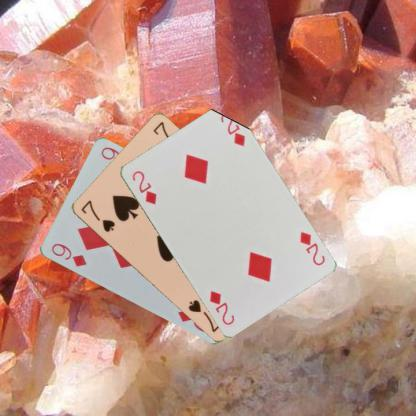2d: (296, 229, 326, 267), (129, 168, 158, 206)
7s: (78, 198, 116, 233)
9d: (48, 240, 88, 268)
